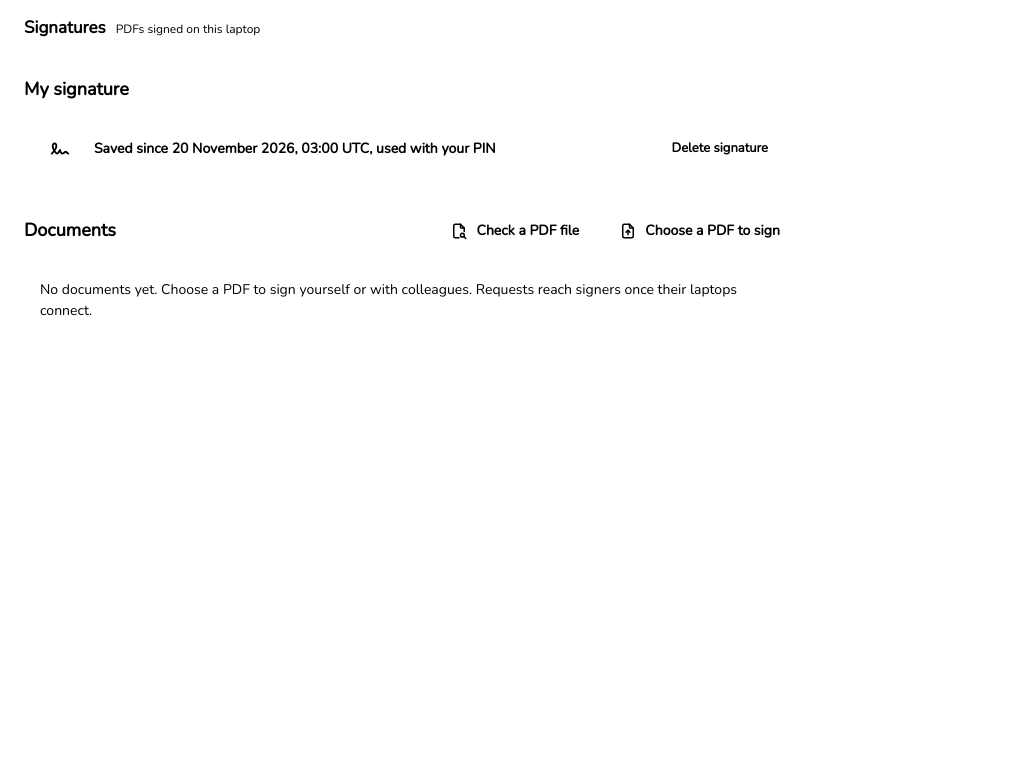
it: SignScreen dalam bahasa Inggris › dialog hapus tanpa PIN dalam bahasa Inggris
Click the button "Delete signature" at (720,148), box [660,132,780,166]
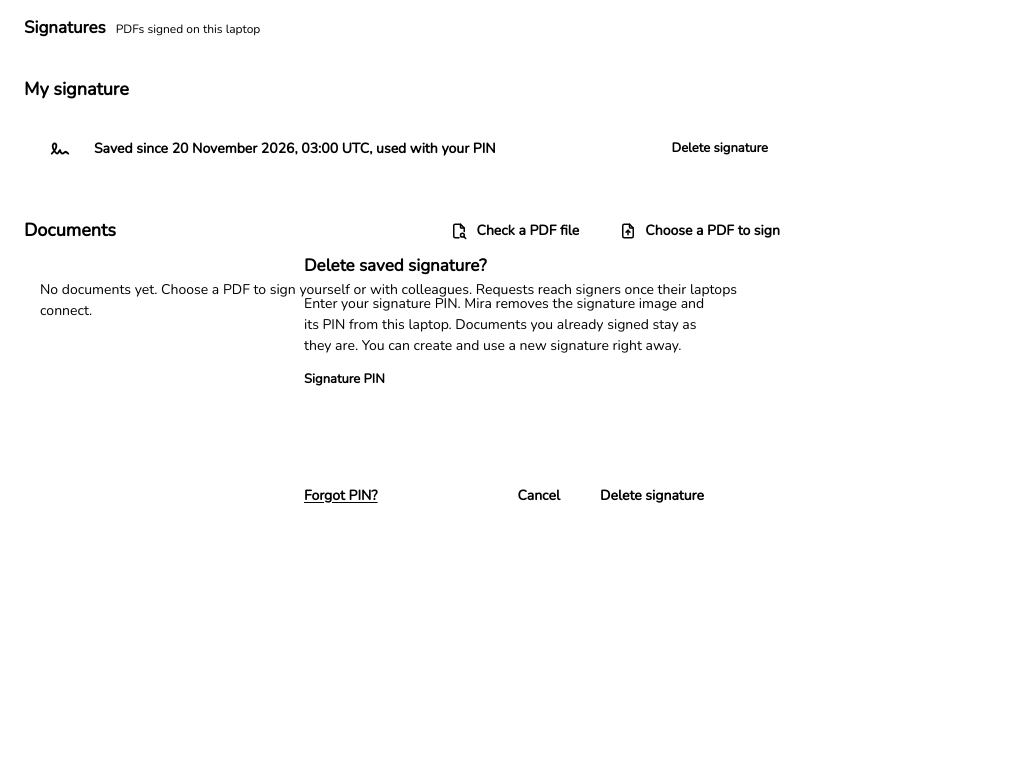
Click the button "Forgot PIN?" at (341,495), box [304,475,378,515]
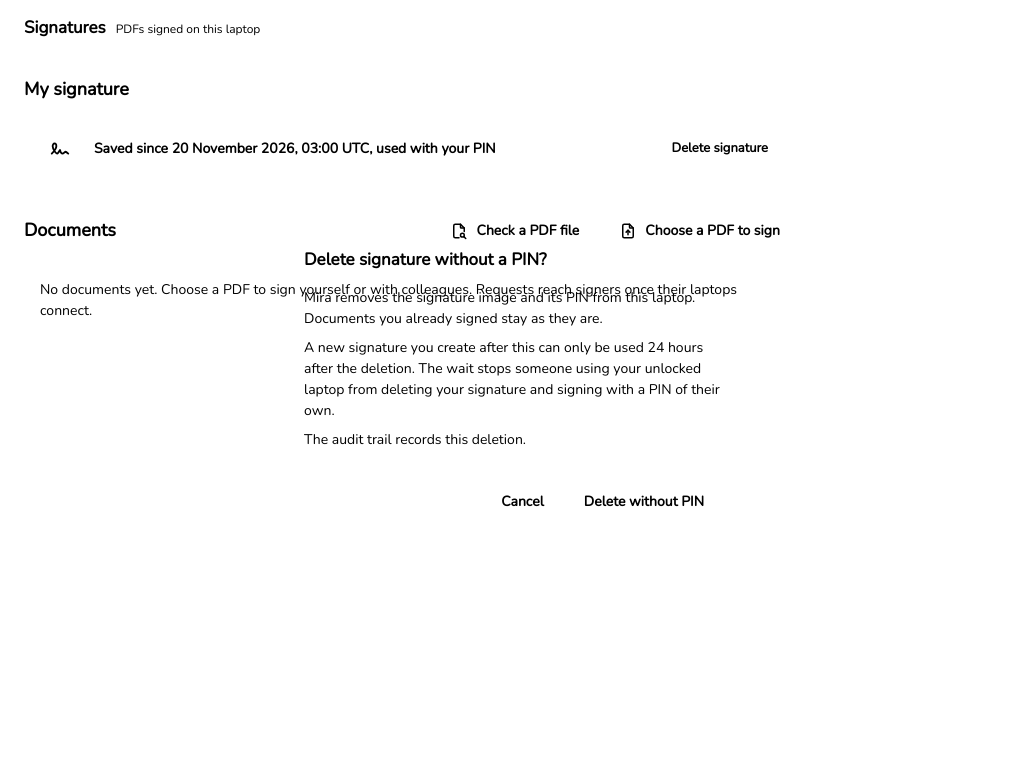
Expected: the text "The audit trail records this deletion." is shown, [304,429,526,448]
Expected: the button "Delete without PIN" is shown, [568,481,720,521]
